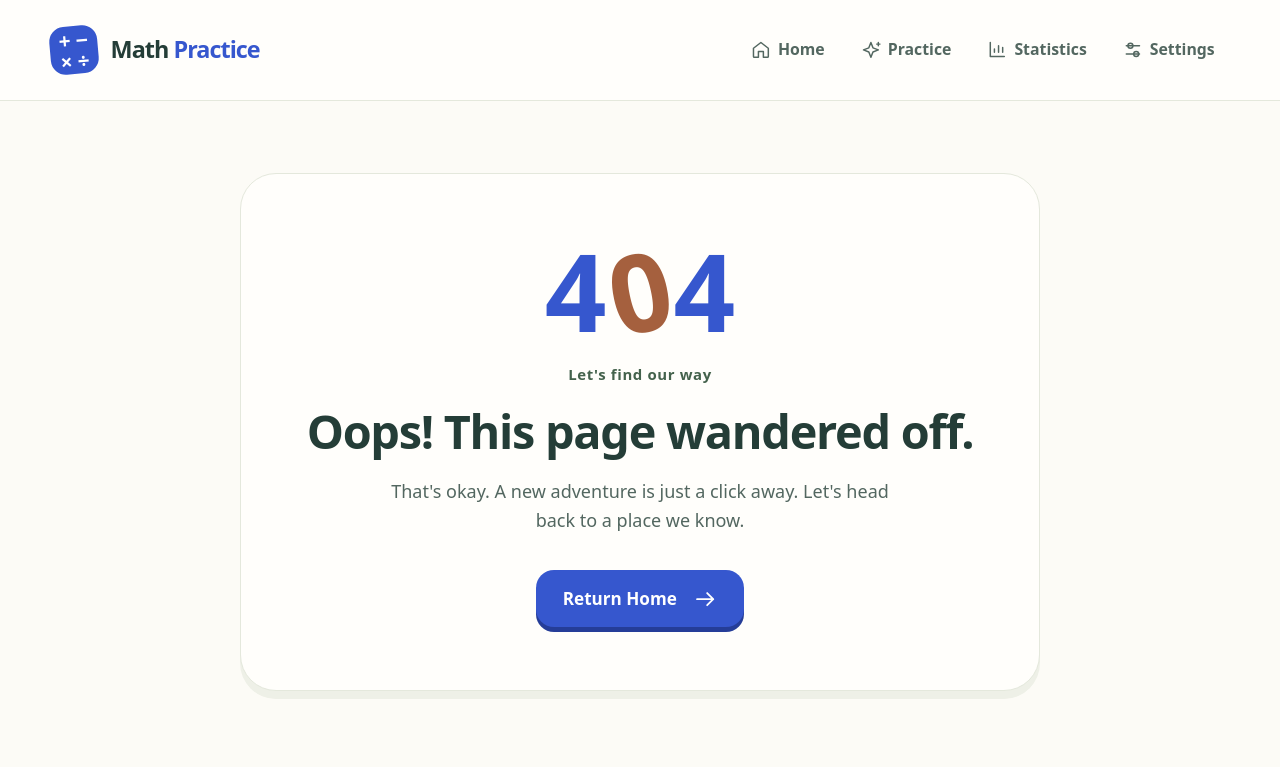
it: shows a friendly fallback for unknown routes and allows returning home
The image size is (1280, 767).
Expected: the heading "Oops! This page wandered off." is shown, 307,405 -> 973,459
Click the link "Return Home". click: {"x": 640, "y": 599}
box: 536,570 -> 744,627
(page scrolled)
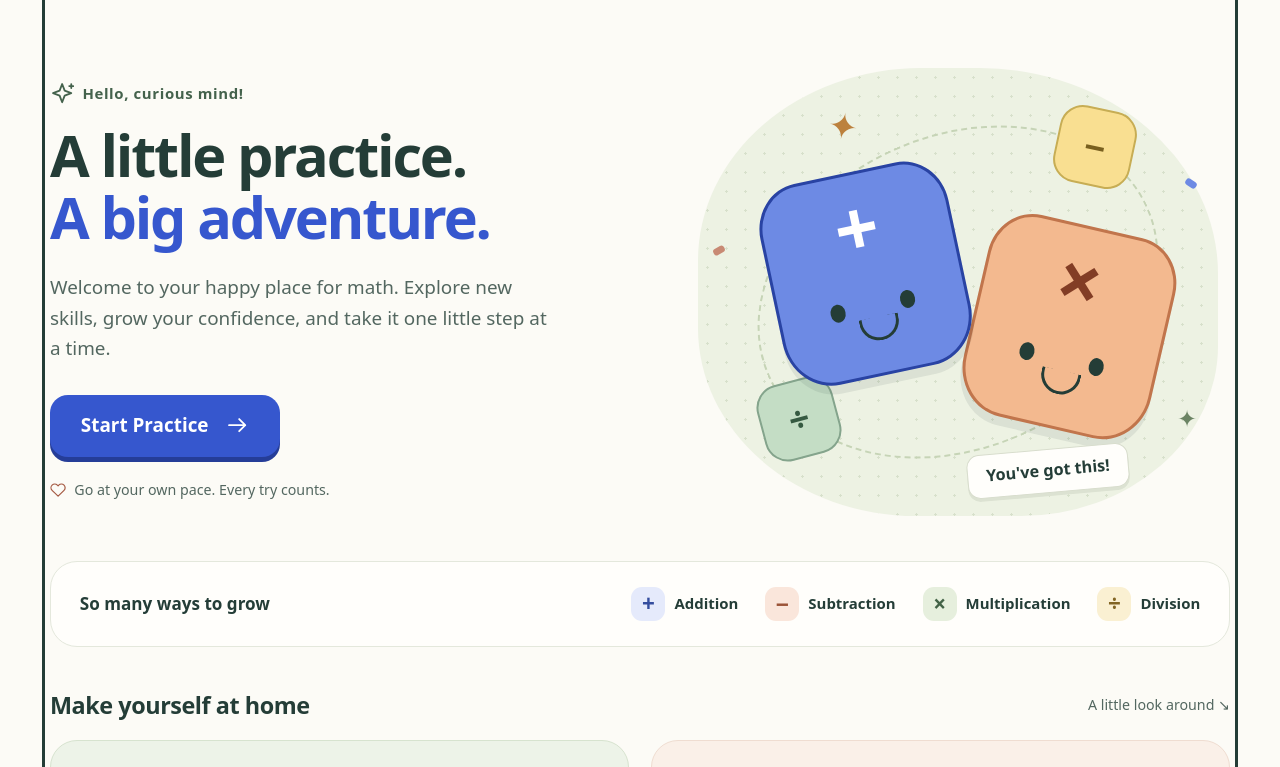
Result: the link "Start Practice" is shown at 50,395 -> 280,457
